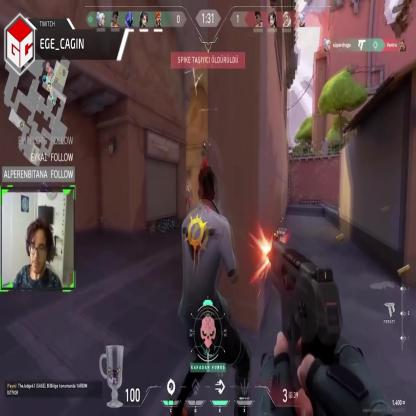enemy: (185, 182, 193, 212)
enemy_head: (187, 184, 189, 190)
